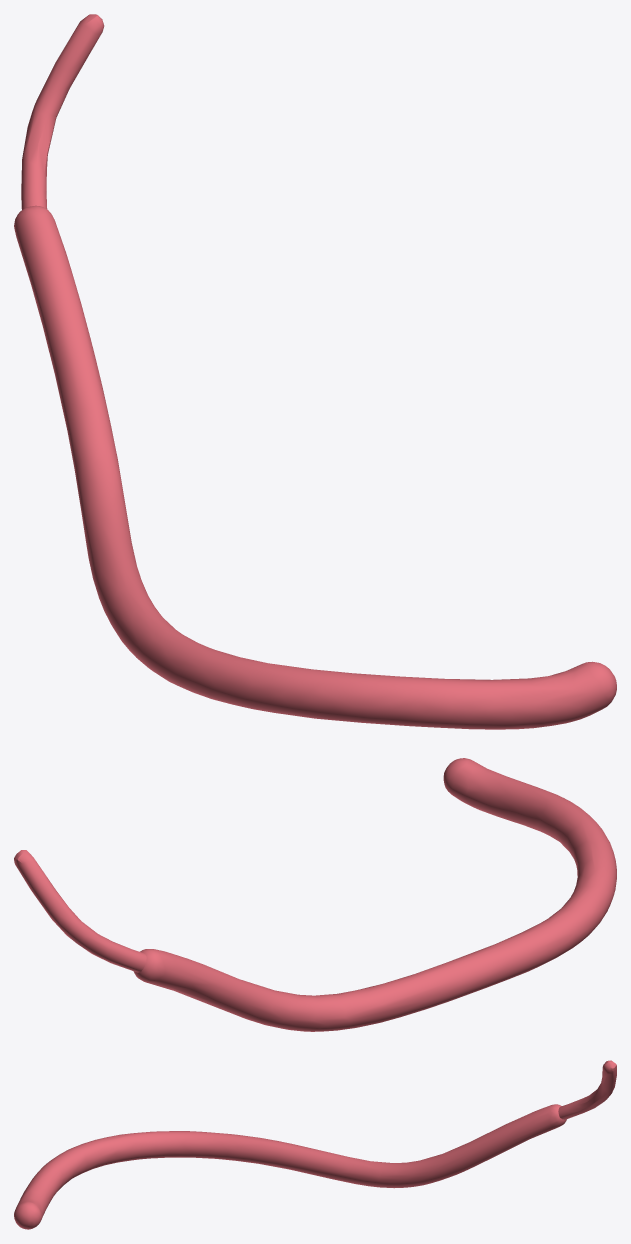
The model's file is fma50641_cx100.glb.
3 views of the same model, one above another, from view 1: azimuth 30°, elevation 25°; view 2: azimuth 150°, elevation 25°; view 3: azimuth 270°, elevation 25° (orthographic). The views are drawn at different scales.
Visible parts, largest first — view 1: FMA50641_CX100; view 2: FMA50641_CX100; view 3: FMA50641_CX100.
Boxes of the visible parts, box(x1,y1,x2,y2) form: FMA50641_CX100: box(14, 14, 616, 729); FMA50641_CX100: box(14, 758, 616, 1031); FMA50641_CX100: box(14, 1060, 616, 1229).
Size of the model in its own units: 0.0141 by 0.0132 by 0.0402.
